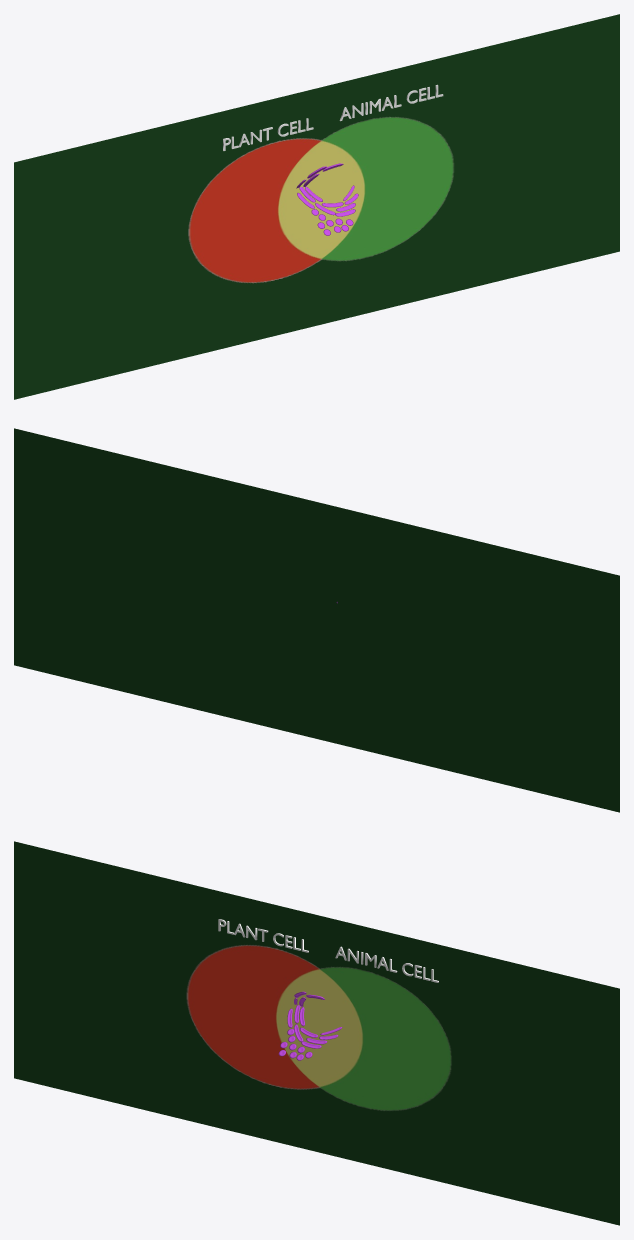
File: intestine.gltf
3 renders of one model, top to bottom at view 1: azimuth 30°, elevation 25°; view 2: azimuth 150°, elevation 25°; view 3: azimuth 330°, elevation 25°, orthographic.
Parts seen in each view (by area): view 1: Plane.039, Plane.013, Blue_Top, Text.009, Text.008; view 2: Plane.013; view 3: Plane.039, Plane.013, Blue_Top, Text.009, Text.008.
Part boxes in pixels (<box>): Plane.039: <box>120,41,523,370</box>; Plane.013: <box>14,14,619,399</box>; Blue_Top: <box>296,163,358,235</box>; Text.009: <box>339,84,443,121</box>; Text.008: <box>223,118,313,150</box>; Plane.013: <box>14,428,619,812</box>; Plane.039: <box>118,869,521,1198</box>; Plane.013: <box>14,841,619,1225</box>; Blue_Top: <box>278,991,342,1060</box>; Text.009: <box>335,946,438,982</box>; Text.008: <box>218,919,308,952</box>.
Bounding box in the file's own units: 15.94 × 5.96 × 1.11.
Materials: 5 (1 with a texture image).
